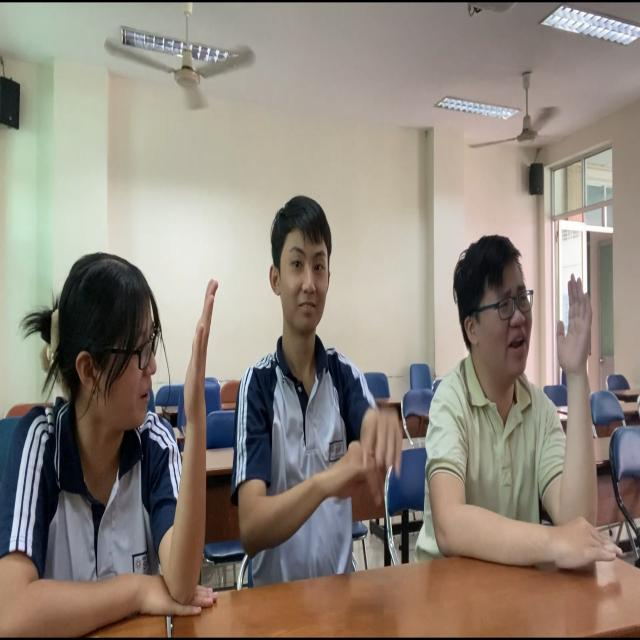raise_hand: (1, 231, 237, 640), (414, 224, 602, 579)
